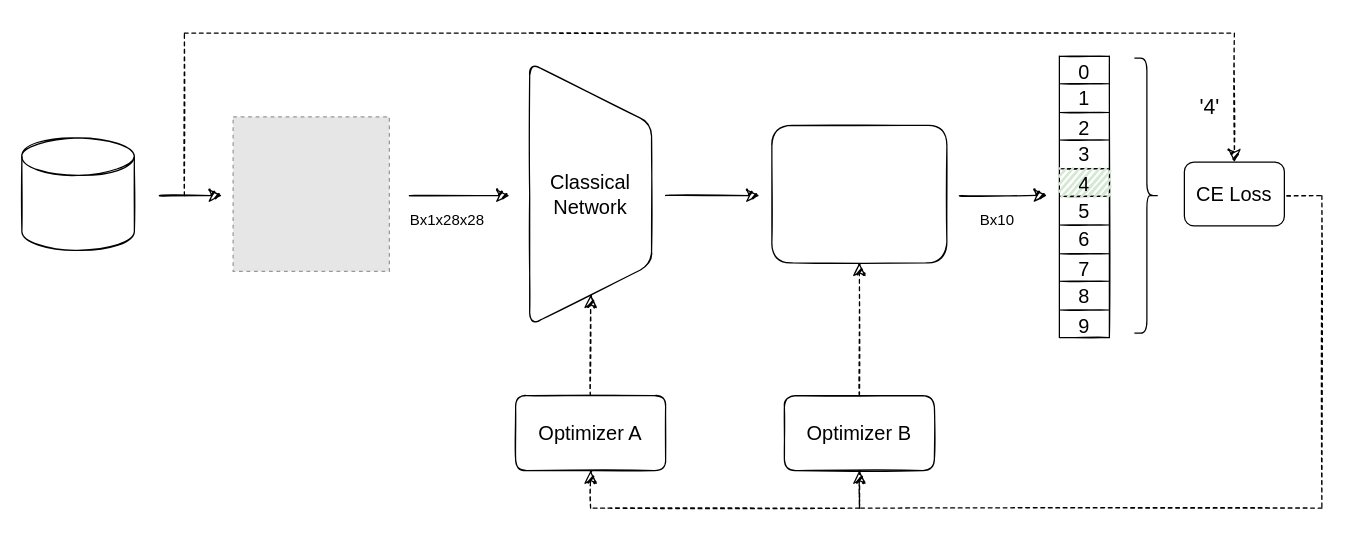
Image size: 1356x543. Some labels were removed from this diagram. Grey dashed boxes stand in for pictures. The centre of each missing label's shape, as x and y in pixels:
"MNIST" goes at [77,193].
"Quantum Network" goes at [859,193].
